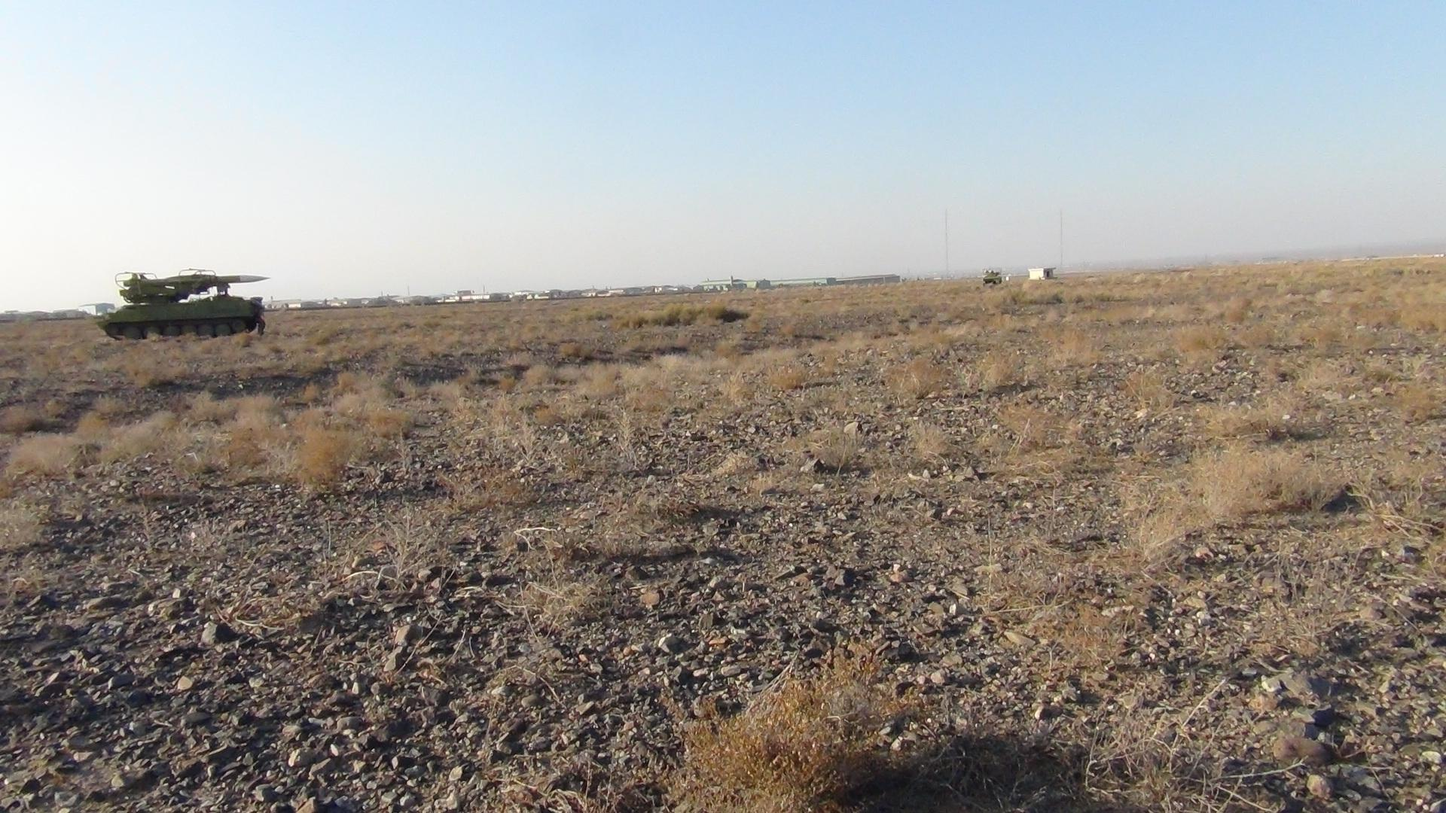armored_car: (93, 263, 270, 341)
